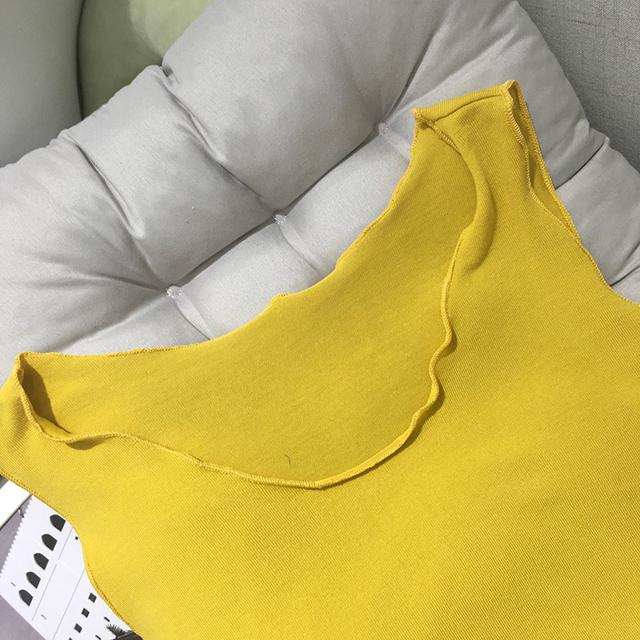Tops: (5, 87, 640, 637)
